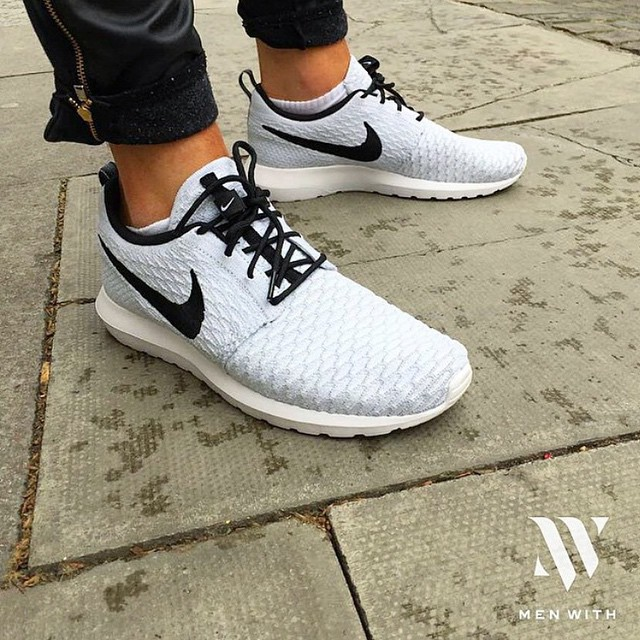sneaker: (33, 97, 494, 473), (224, 19, 553, 220)
